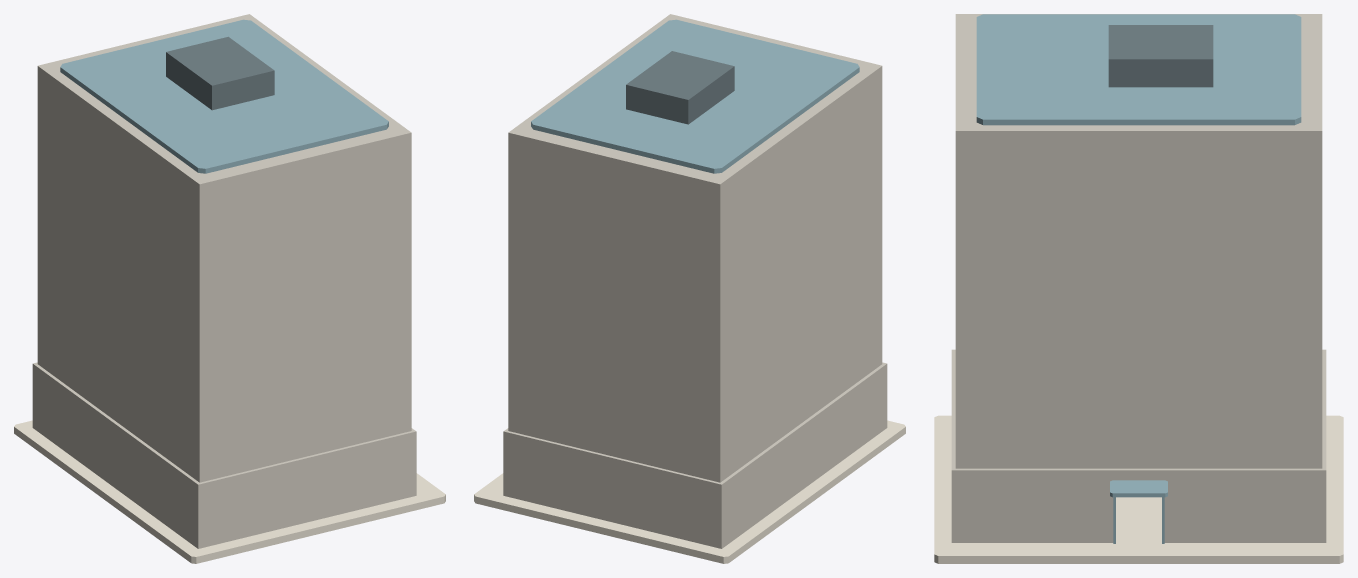
Rendered from Colony_MidRise_Res_B_v4_ShadowProxy.glb.
The picture shows the model from 3 angles, left to right: view 1: azimuth 30°, elevation 25°; view 2: azimuth 150°, elevation 25°; view 3: azimuth 270°, elevation 25°; orthographic projection. The views are drawn at different scales.
Visible parts, largest first — view 1: Colony_MidRise_Res_B_v4_ShadowProxy / Structure, Colony_MidRise_Res_B_v4_ShadowProxy / Roof, Colony_MidRise_Res_B_v4_ShadowProxy / Foundation; view 2: Colony_MidRise_Res_B_v4_ShadowProxy / Structure, Colony_MidRise_Res_B_v4_ShadowProxy / Roof, Colony_MidRise_Res_B_v4_ShadowProxy / Foundation; view 3: Colony_MidRise_Res_B_v4_ShadowProxy / Structure, Colony_MidRise_Res_B_v4_ShadowProxy / Roof, Colony_MidRise_Res_B_v4_ShadowProxy / Foundation, Colony_MidRise_Res_B_v4_ShadowProxy / Entrance modules.
Boxes of the visible parts, x1,y1,x2,y2 form: Colony_MidRise_Res_B_v4_ShadowProxy / Structure: (32, 14, 416, 548); Colony_MidRise_Res_B_v4_ShadowProxy / Roof: (60, 19, 388, 173); Colony_MidRise_Res_B_v4_ShadowProxy / Foundation: (14, 420, 445, 563); Colony_MidRise_Res_B_v4_ShadowProxy / Structure: (503, 14, 887, 548); Colony_MidRise_Res_B_v4_ShadowProxy / Roof: (531, 19, 859, 173); Colony_MidRise_Res_B_v4_ShadowProxy / Foundation: (474, 420, 905, 563); Colony_MidRise_Res_B_v4_ShadowProxy / Structure: (951, 14, 1326, 542); Colony_MidRise_Res_B_v4_ShadowProxy / Roof: (976, 14, 1301, 125); Colony_MidRise_Res_B_v4_ShadowProxy / Foundation: (934, 415, 1343, 563); Colony_MidRise_Res_B_v4_ShadowProxy / Entrance modules: (1110, 480, 1167, 558).
Size of the model in its own units: 13 by 19.48 by 16.
